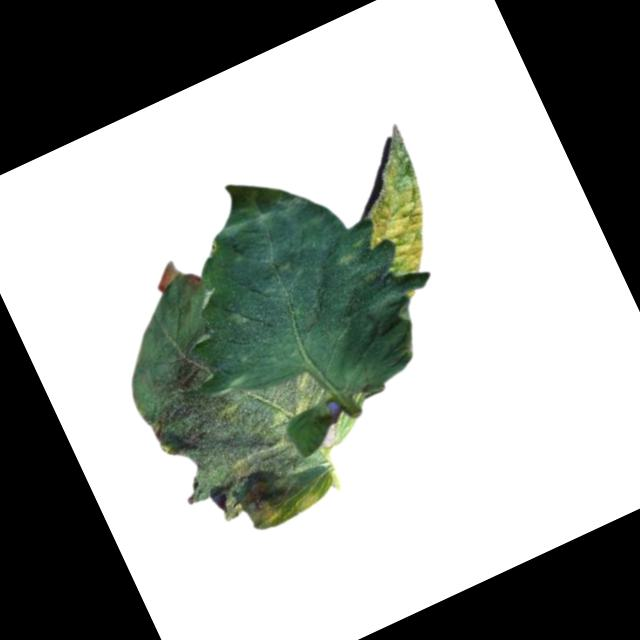Leaf_Mold: (132, 307, 374, 555), (327, 126, 456, 287), (326, 234, 381, 294)
